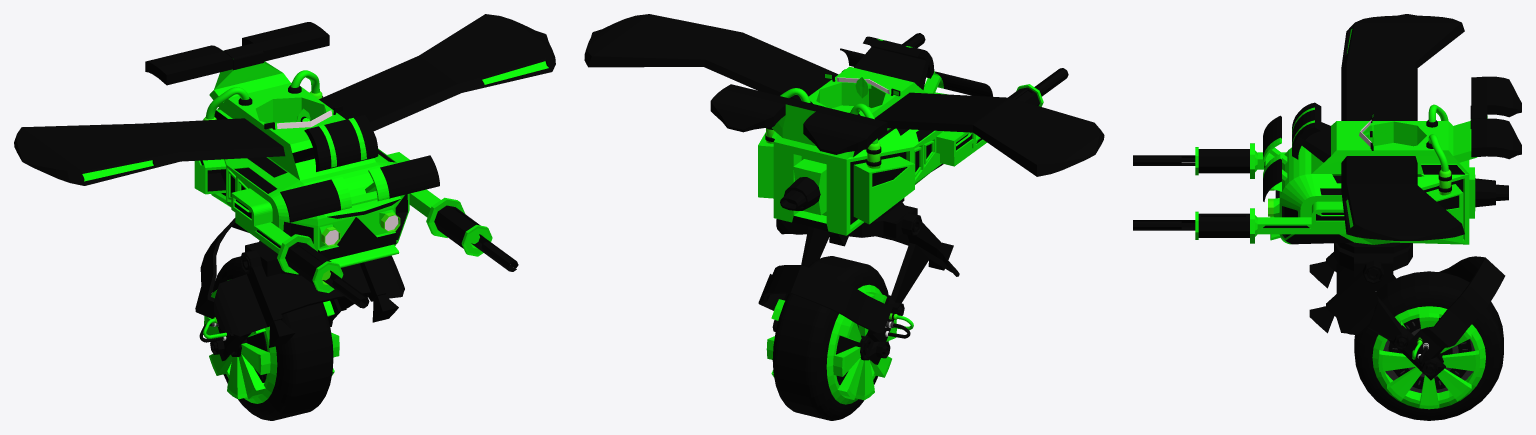
Rendered from RobotShooterDeSamu3.fbx.
3 renders of one model, left to right at view 1: azimuth 30°, elevation 25°; view 2: azimuth 150°, elevation 25°; view 3: azimuth 270°, elevation 25°, orthographic. The views are drawn at different scales.
Parts seen in each view (by area): view 1: Cube.001, Cube, Cube.003, Cube.005; view 2: Cube.001, Cube.003, Cube, Cube.005; view 3: Cube.001, Cube.003, Cube, Cube.005, Cube.002.
Boxes of the visible parts, left/top/right/bottom form: Cube.001: left=14, top=14, right=555, bottom=292; Cube: left=195, top=218, right=404, bottom=361; Cube.003: left=204, top=256, right=339, bottom=420; Cube.005: left=322, top=234, right=518, bottom=308; Cube.001: left=584, top=14, right=1104, bottom=235; Cube.003: left=766, top=256, right=896, bottom=420; Cube: left=758, top=202, right=959, bottom=364; Cube.005: left=902, top=33, right=1068, bottom=96; Cube.001: left=1195, top=14, right=1521, bottom=244; Cube.003: left=1354, top=271, right=1503, bottom=420; Cube: left=1309, top=243, right=1505, bottom=380; Cube.005: left=1133, top=155, right=1195, bottom=230; Cube.002: left=1337, top=242, right=1410, bottom=253.
Size of the model in its own units: 1379 by 857 by 998.
